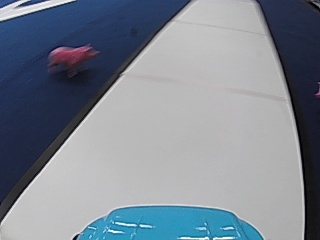pig: (47, 39, 98, 78)
